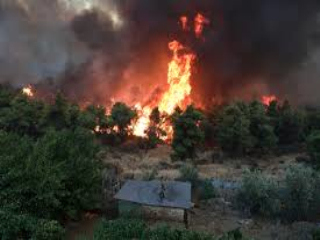fire: (152, 39, 206, 136), (96, 67, 154, 140), (18, 83, 37, 105)
smoke: (8, 6, 110, 86)
